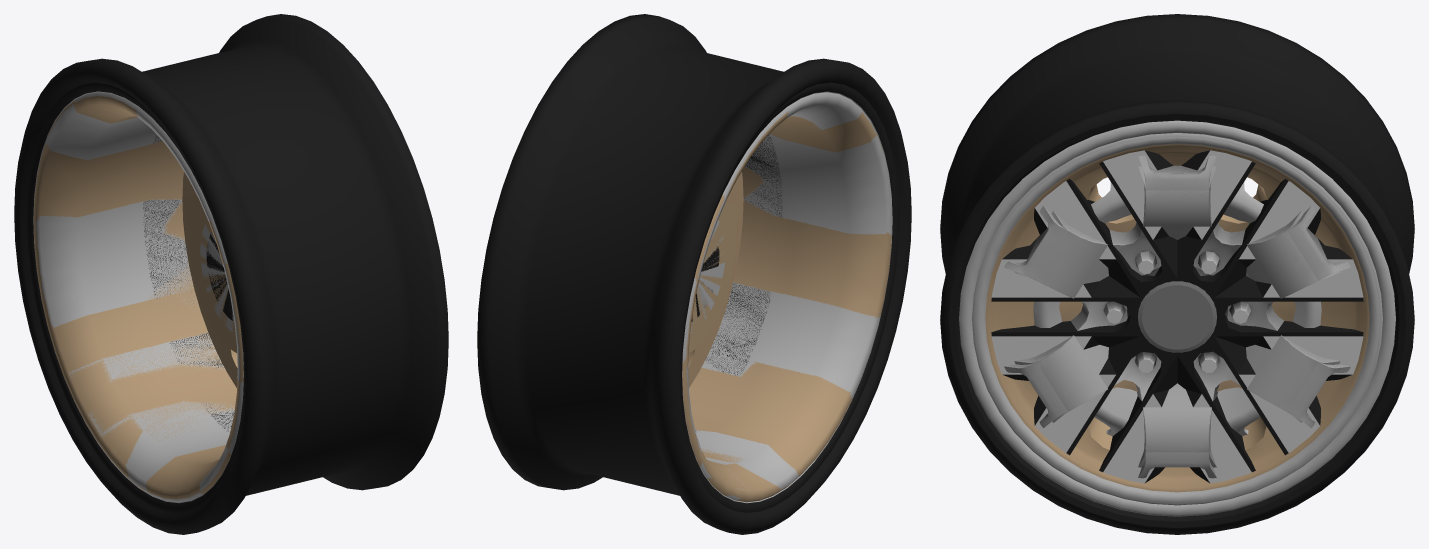
The model's file is seoil_wheels_6.dae.
3 views of the same model, side by side, from view 1: azimuth 30°, elevation 25°; view 2: azimuth 150°, elevation 25°; view 3: azimuth 270°, elevation 25° (orthographic). The views are drawn at different scales.
Parts seen in each view (by area): view 1: seoil_l6s_01a_18x8, seoil_o8x_01a_16x8, seoil_steelies_01a_16x8, seoil_l6s_01a_17x8, seoil_l6s_01a_16x8, seoil_t6x_01a_17x8; view 2: seoil_l6s_01a_18x8, seoil_o8x_01a_16x8, seoil_steelies_01a_16x8, seoil_l6s_01a_17x8, seoil_l6s_01a_16x8, seoil_t6x_01a_17x8; view 3: seoil_l6s_01a_18x8, seoil_l6s_01a_17x8, seoil_t6x_01a_16x8, seoil_t6x_01a_17x8, seoil_o8x_01a_16x8, seoil_l6s_01a_16x8, seoil_steelies_01a_16x8.
Boxes of the visible parts, left/top/right/bottom form: seoil_l6s_01a_18x8: left=14, top=14, right=448, bottom=534; seoil_o8x_01a_16x8: left=33, top=96, right=243, bottom=499; seoil_steelies_01a_16x8: left=35, top=92, right=243, bottom=502; seoil_l6s_01a_17x8: left=26, top=82, right=244, bottom=512; seoil_l6s_01a_16x8: left=143, top=136, right=234, bottom=431; seoil_t6x_01a_17x8: left=33, top=91, right=243, bottom=503; seoil_l6s_01a_18x8: left=477, top=14, right=911, bottom=534; seoil_o8x_01a_16x8: left=682, top=111, right=891, bottom=502; seoil_steelies_01a_16x8: left=682, top=92, right=892, bottom=500; seoil_l6s_01a_17x8: left=681, top=82, right=899, bottom=512; seoil_l6s_01a_16x8: left=695, top=135, right=782, bottom=375; seoil_t6x_01a_17x8: left=682, top=91, right=892, bottom=503; seoil_l6s_01a_18x8: left=940, top=14, right=1414, bottom=534; seoil_l6s_01a_17x8: left=991, top=150, right=1363, bottom=483; seoil_t6x_01a_16x8: left=975, top=136, right=1379, bottom=503; seoil_t6x_01a_17x8: left=959, top=120, right=1395, bottom=516; seoil_o8x_01a_16x8: left=985, top=144, right=1369, bottom=492; seoil_l6s_01a_16x8: left=992, top=151, right=1363, bottom=477; seoil_steelies_01a_16x8: left=972, top=133, right=1382, bottom=505.
Size of the model in its own units: 0.2507 by 0.5273 by 0.5273.
5 materials, 2 textured.
